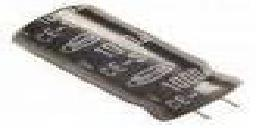Electrolytic-Capacitor: (11, 4, 245, 124)
